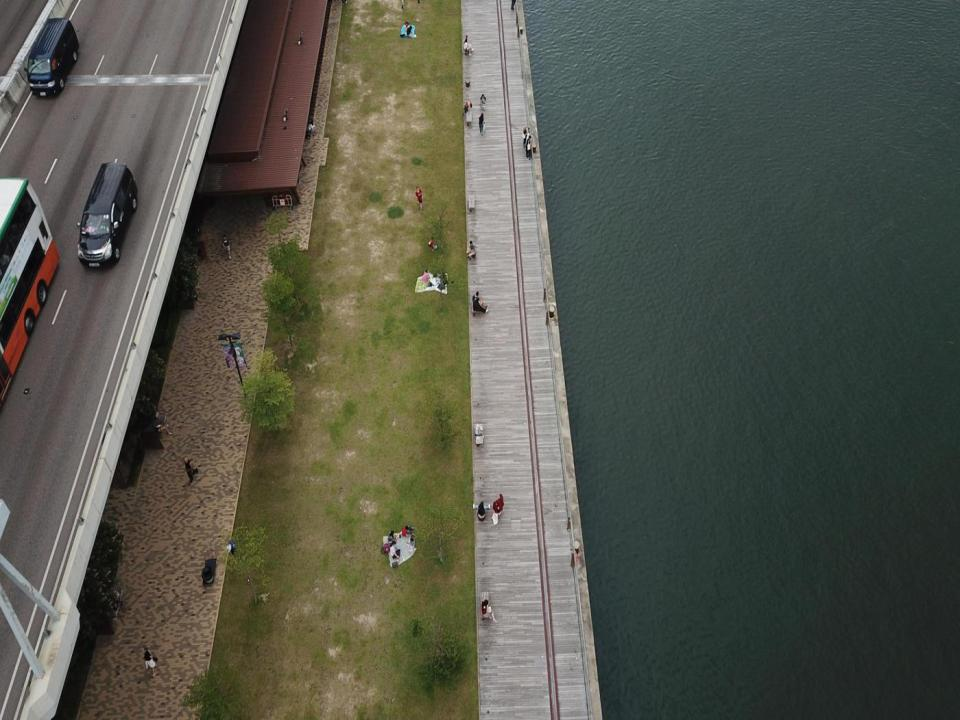bus: (0, 176, 60, 408)
van: (76, 162, 139, 270), (23, 16, 80, 100)
